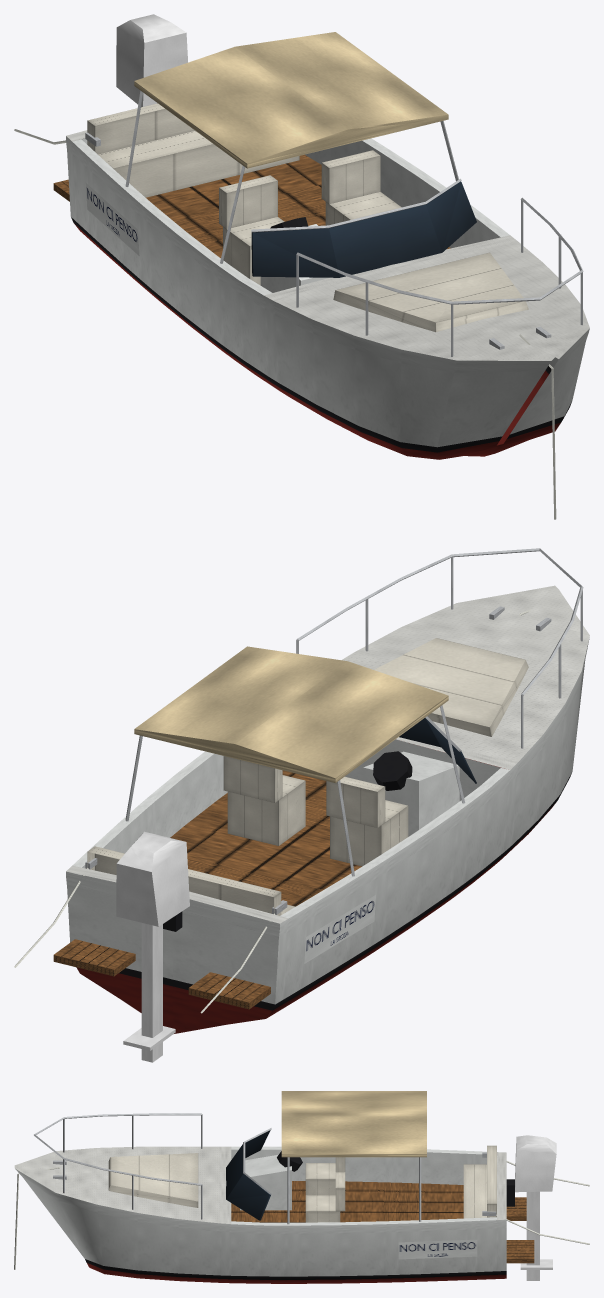
Rendered from SM_Morin_Barca_Motoscafo_TelaBeige.fbx.
3 views of the same model, one above another, from view 1: azimuth 30°, elevation 25°; view 2: azimuth 150°, elevation 25°; view 3: azimuth 270°, elevation 25° (orthographic). The views are drawn at different scales.
Visible parts, largest first — view 1: SM_Morin_Barca_Motoscafo_TelaBeige; view 2: SM_Morin_Barca_Motoscafo_TelaBeige; view 3: SM_Morin_Barca_Motoscafo_TelaBeige.
Boxes of the visible parts, box(x1,y1,x2,y2) form: SM_Morin_Barca_Motoscafo_TelaBeige: box(14, 14, 589, 519); SM_Morin_Barca_Motoscafo_TelaBeige: box(14, 548, 589, 1062); SM_Morin_Barca_Motoscafo_TelaBeige: box(14, 1091, 589, 1283).
Bounding box in the file's own units: 270 × 831 × 259.
Materials: 1 (1 with a texture image).
